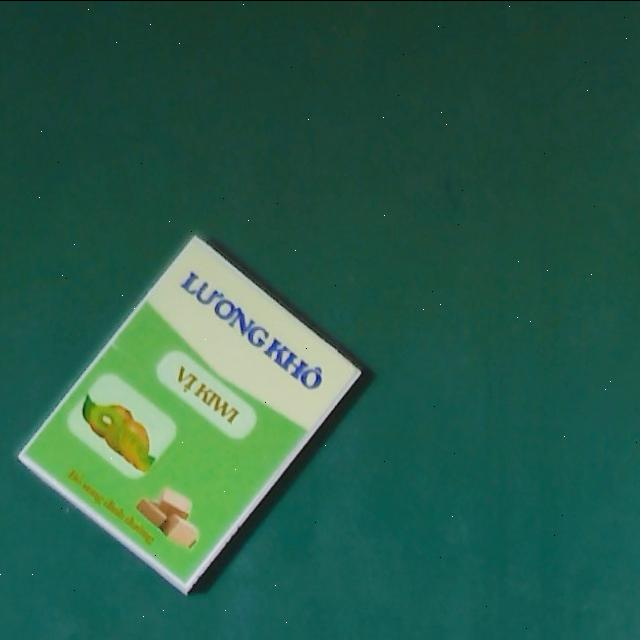kiwi: (14, 234, 364, 595)
